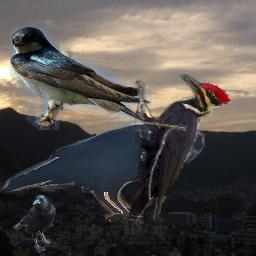Crow: (0, 119, 205, 225), (11, 192, 56, 254)
Swallow: (10, 27, 152, 130)
Woodpecker: (125, 74, 232, 229)
